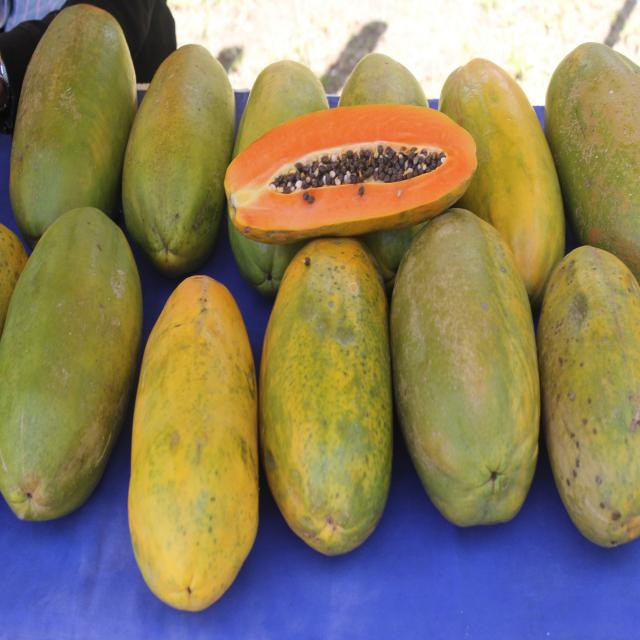Pepaya rippen: (118, 268, 266, 624), (396, 218, 539, 555), (223, 82, 473, 246), (2, 218, 128, 522), (266, 251, 392, 544), (547, 244, 640, 568), (438, 44, 557, 264), (21, 2, 120, 214), (139, 40, 229, 258), (554, 34, 640, 250)
